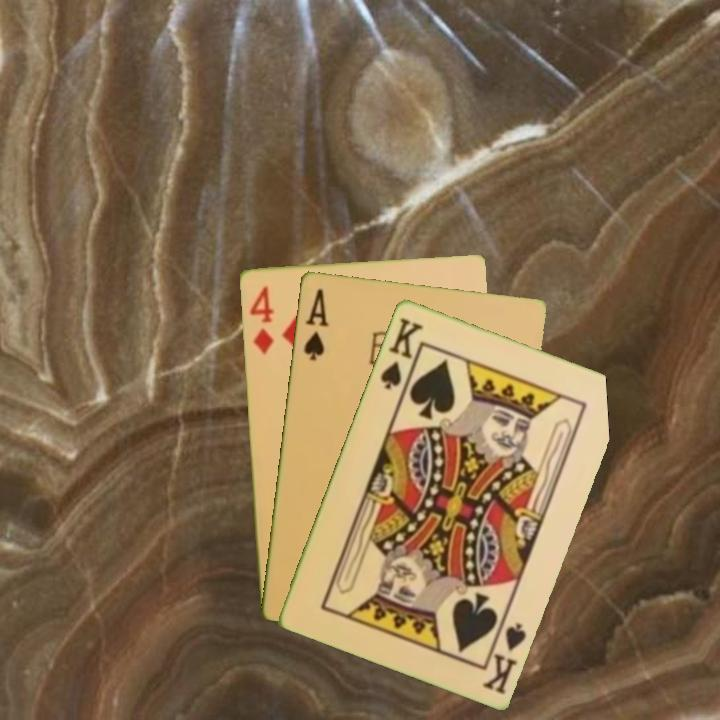4d: (246, 282, 276, 357)
As: (300, 285, 331, 363)
Ks: (478, 611, 529, 697), (376, 313, 426, 392)
